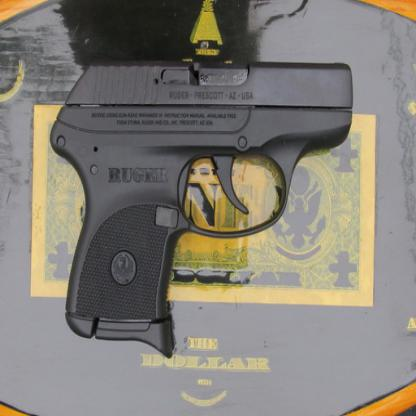gun: (49, 58, 354, 359)
